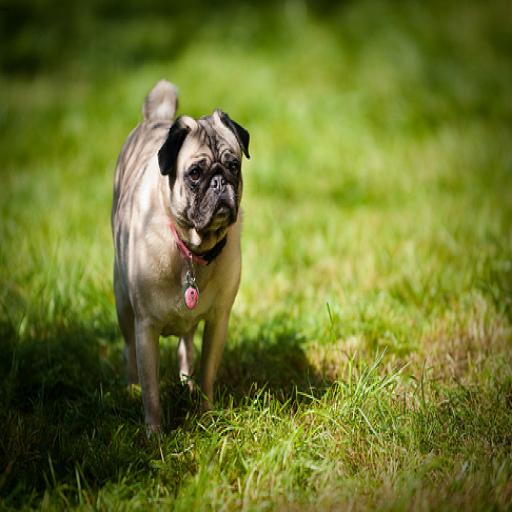dog_face: (156, 107, 251, 236)
